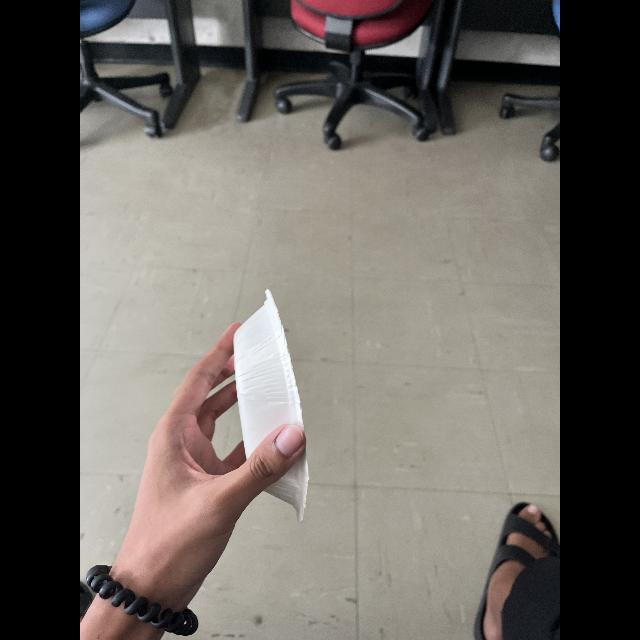cardboard_bowl: (237, 280, 311, 522)
